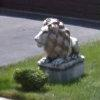Statue: (32, 9, 83, 74)
